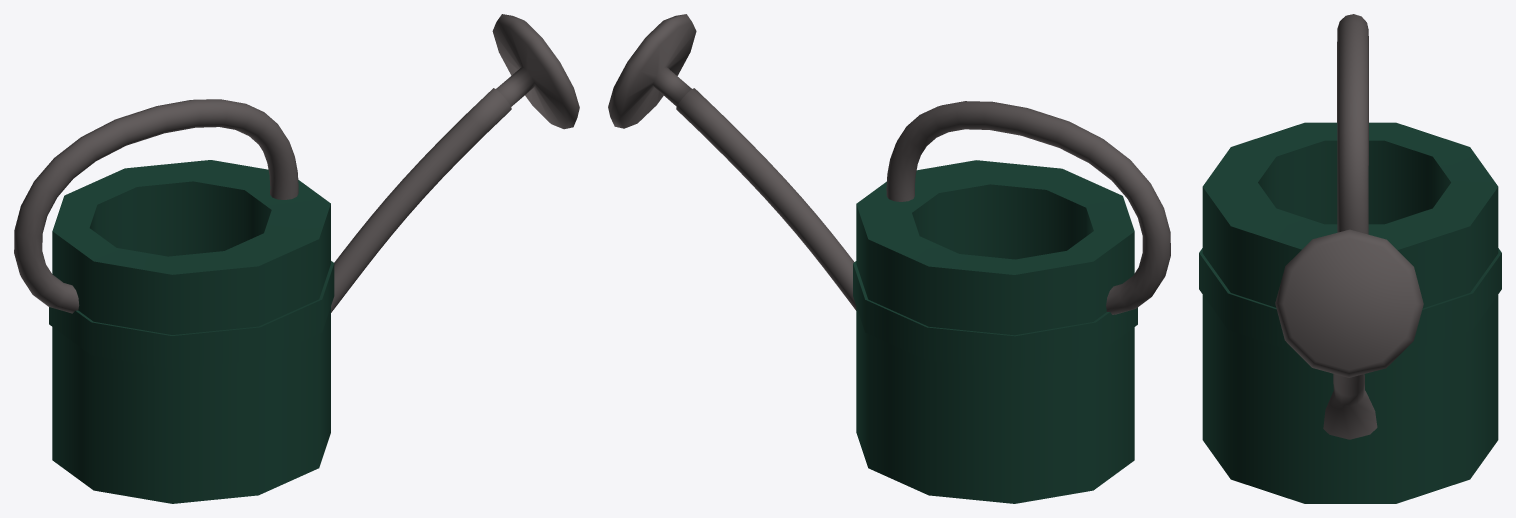
The model's file is regaderademierda1 (2).fbx.
3 views of the same model, side by side, from view 1: azimuth 30°, elevation 25°; view 2: azimuth 150°, elevation 25°; view 3: azimuth 270°, elevation 25° (orthographic). The views are drawn at different scales.
Parts seen in each view (by area): view 1: Cylinder, BezierCurve, BezierCurve.001; view 2: Cylinder, BezierCurve, BezierCurve.001; view 3: Cylinder, BezierCurve.001, BezierCurve.
Boxes of the visible parts, x1=… form: Cylinder: x1=49, y1=160, x2=334, y2=503; BezierCurve: x1=14, y1=99, x2=298, y2=313; BezierCurve.001: x1=331, y1=14, x2=579, y2=312; Cylinder: x1=853, y1=160, x2=1137, y2=503; BezierCurve: x1=886, y1=101, x2=1170, y2=314; BezierCurve.001: x1=608, y1=14, x2=856, y2=310; Cylinder: x1=1199, y1=122, x2=1501, y2=503; BezierCurve.001: x1=1275, y1=229, x2=1423, y2=439; BezierCurve: x1=1337, y1=14, x2=1368, y2=234.
Size of the model in its own units: 399 by 243 by 173.
